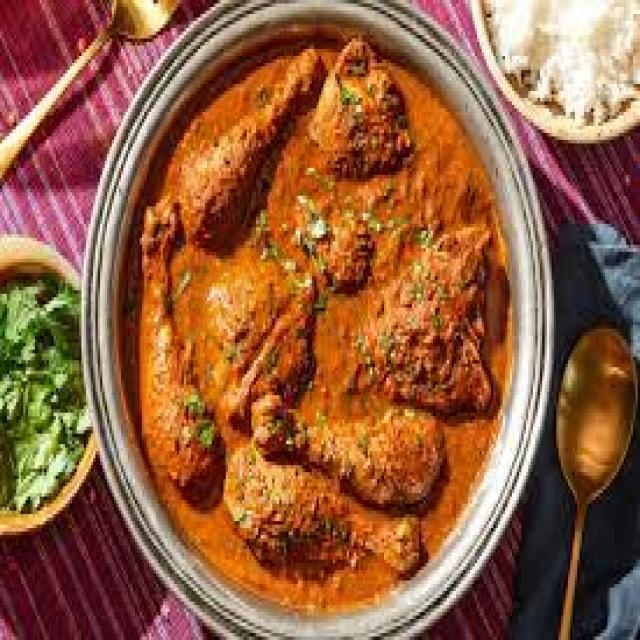Chicken Curry: (128, 45, 524, 612)
